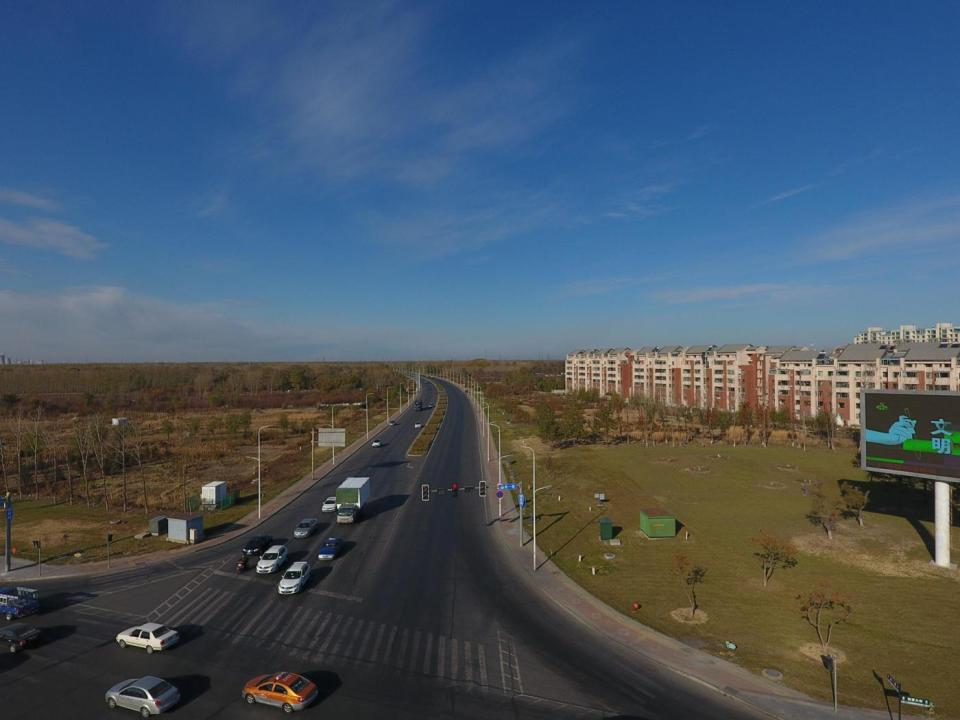car: (105, 676, 182, 717), (243, 672, 317, 711), (117, 623, 179, 655), (0, 622, 44, 653), (278, 562, 311, 594), (256, 545, 288, 573), (242, 534, 274, 556), (318, 537, 342, 560), (294, 518, 318, 537), (322, 496, 340, 512), (372, 439, 382, 447), (414, 422, 422, 428), (388, 420, 396, 426), (429, 402, 433, 406), (428, 386, 430, 389), (465, 390, 468, 392), (426, 376, 428, 377)
truck: (336, 476, 371, 523), (0, 586, 40, 620), (414, 400, 422, 411), (424, 380, 428, 383), (431, 376, 433, 378)
